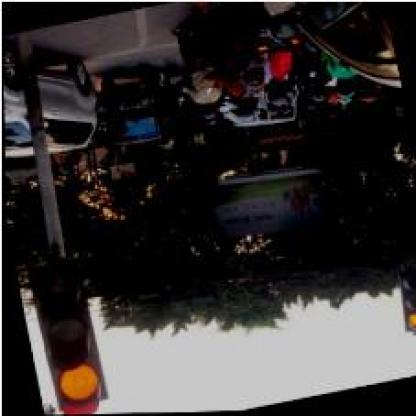red: (23, 256, 109, 415), (391, 268, 415, 336)
